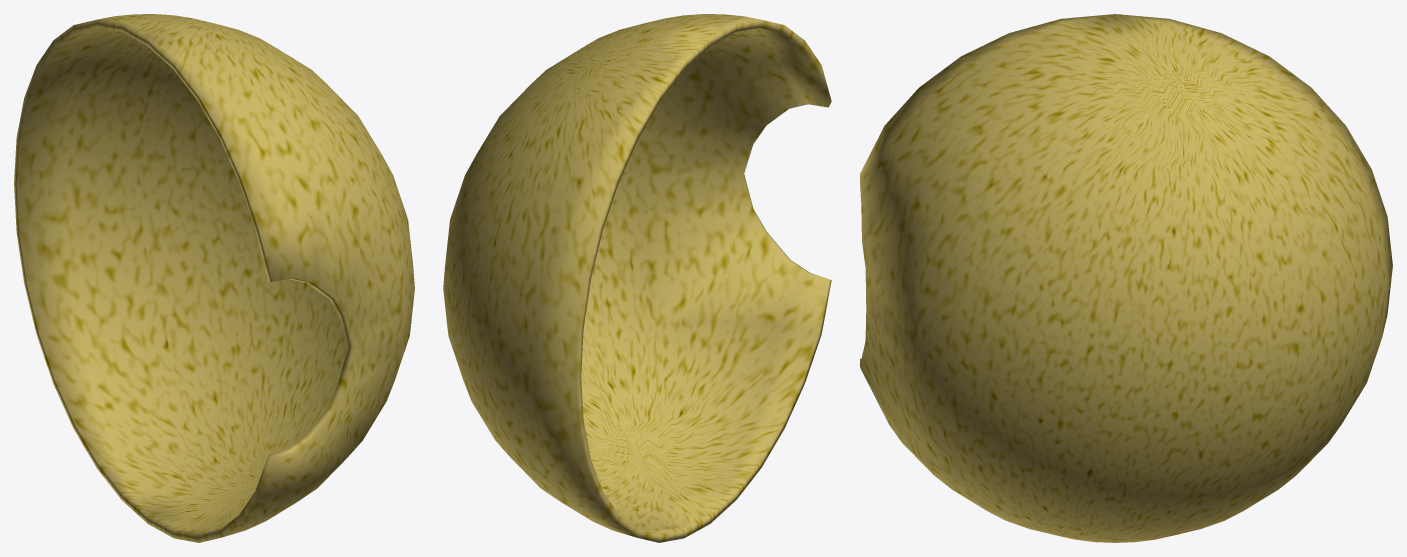
File: retine.glb
3 renders of one model, left to right at view 1: azimuth 30°, elevation 25°; view 2: azimuth 150°, elevation 25°; view 3: azimuth 270°, elevation 25°, orthographic. The views are drawn at different scales.
Parts seen in each view (by area): view 1: Sphere.014; view 2: Sphere.014; view 3: Sphere.014.
Boxes of the visible parts, x1=… form: Sphere.014: x1=14, y1=14, x2=414, y2=542; Sphere.014: x1=443, y1=14, x2=831, y2=542; Sphere.014: x1=860, y1=14, x2=1392, y2=542.
Size of the model in its own units: 1 by 2 by 1.92.
1 material, 1 textured.
